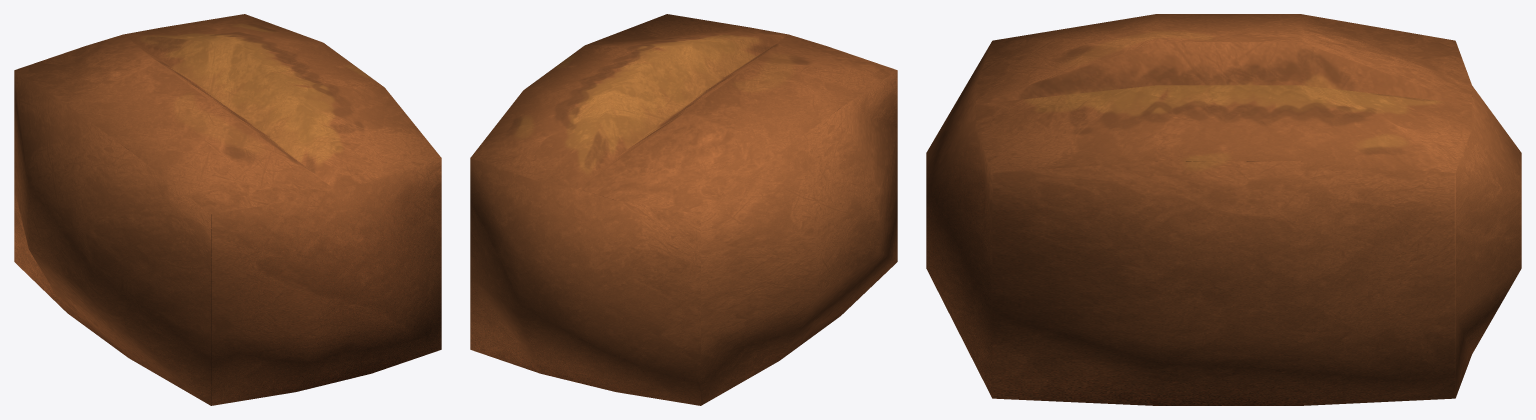
The model's file is bread_small.glb.
The picture shows the model from 3 angles, left to right: view 1: azimuth 30°, elevation 25°; view 2: azimuth 150°, elevation 25°; view 3: azimuth 270°, elevation 25°; orthographic projection. The views are drawn at different scales.
Parts seen in each view (by area): view 1: bread_small; view 2: bread_small; view 3: bread_small.
Boxes of the visible parts, bbox=[...] form: bread_small: bbox=[14, 14, 441, 405]; bread_small: bbox=[470, 14, 897, 405]; bread_small: bbox=[926, 14, 1521, 405].
Size of the model in its own units: 2.6 by 1.71 by 3.42.
1 material, 1 textured.
